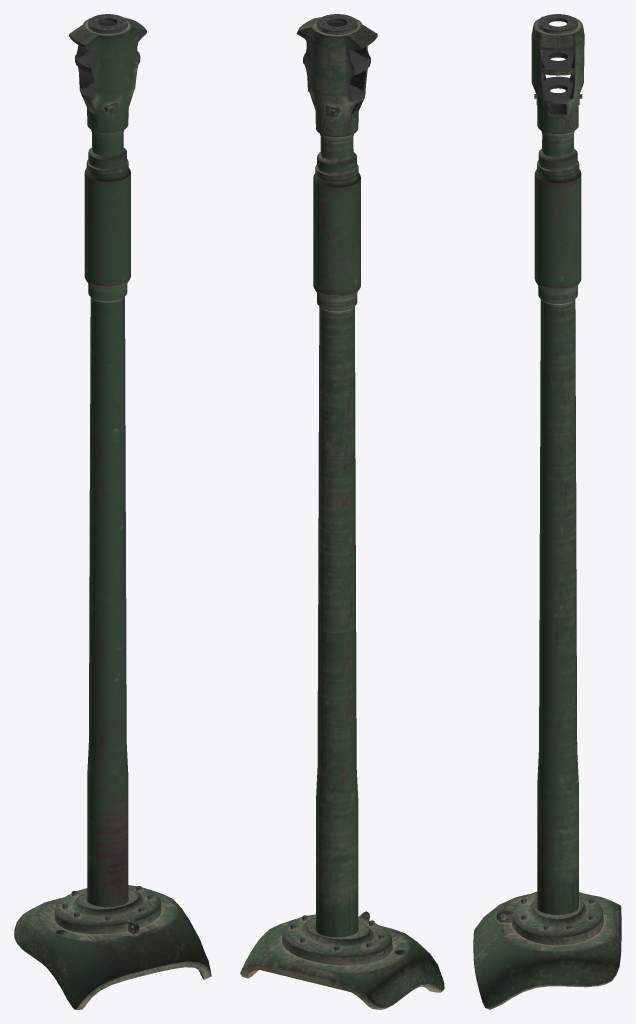
File: Gun_04.glb
3 renders of one model, left to right at view 1: azimuth 30°, elevation 25°; view 2: azimuth 150°, elevation 25°; view 3: azimuth 270°, elevation 25°, orthographic. The views are drawn at different scales.
Visible parts, largest first — view 1: set_0_group_0; view 2: set_0_group_0; view 3: set_0_group_0.
Part boxes in pixels (x1,y1,x2,y2): set_0_group_0: [14, 14, 211, 1009]; set_0_group_0: [240, 14, 444, 1009]; set_0_group_0: [473, 14, 621, 1009].
Bounding box in the file's own units: 0.9882 × 6.25 × 0.8785.
Materials: 1 (1 with a texture image).
